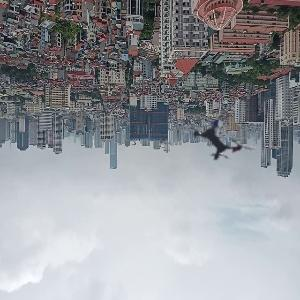drone: (166, 86, 275, 195)
